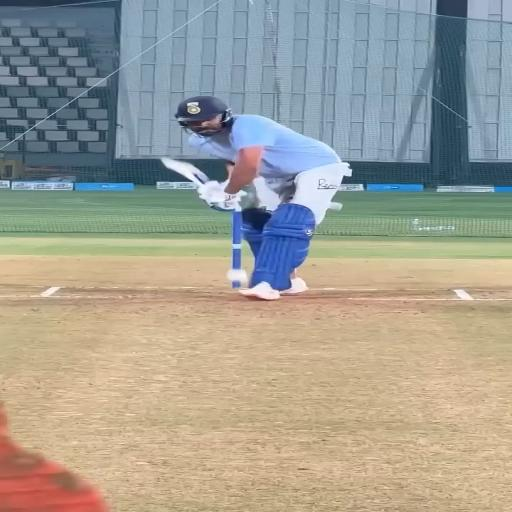Cricket bat: (161, 157, 209, 185)
